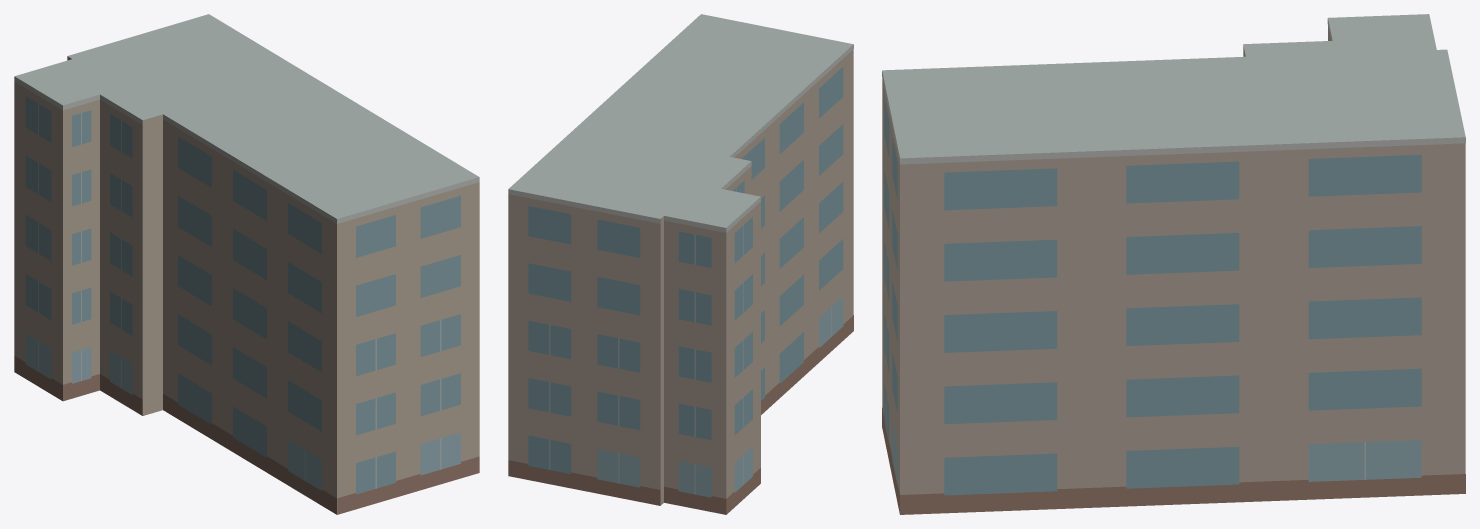
The model's file is survey-upis-32670577.glb.
3 views of the same model, side by side, from view 1: azimuth 30°, elevation 25°; view 2: azimuth 150°, elevation 25°; view 3: azimuth 270°, elevation 25° (orthographic). The views are drawn at different scales.
Parts seen in each view (by area): view 1: survey-upis-32670577.tmp; view 2: survey-upis-32670577.tmp; view 3: survey-upis-32670577.tmp.
Part boxes in pixels (<box>): survey-upis-32670577.tmp: <box>14,14,479,514</box>; survey-upis-32670577.tmp: <box>508,14,853,514</box>; survey-upis-32670577.tmp: <box>882,14,1465,514</box>.
Size of the model in its own units: 12.52 by 14.4 by 21.38.
